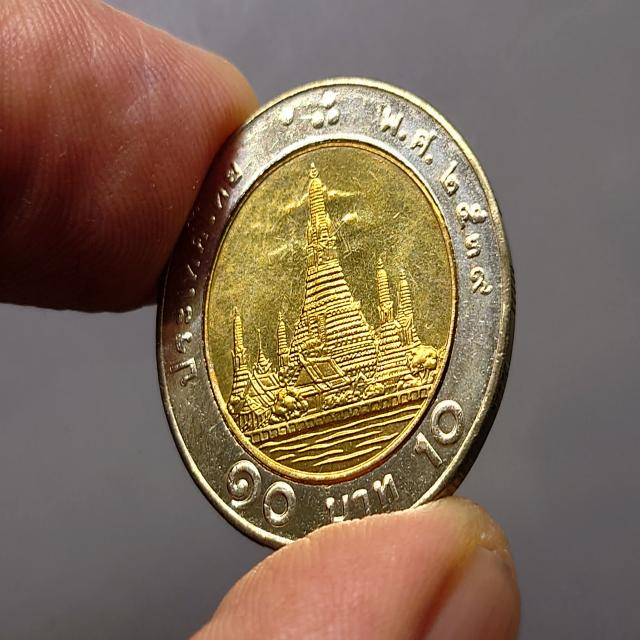10 Bath: (156, 75, 522, 562)
